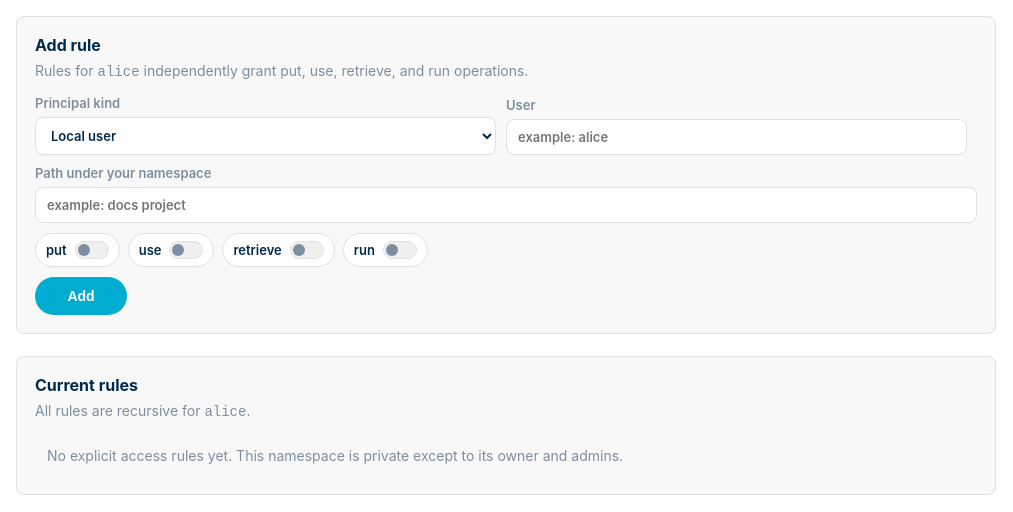
Test: AccessPanel › shows exactly conditional principal fields and preserves exact durable shapes
This screenshot has width=1013, height=512.
expect the text "No explicit access rules yet. This namespace is private except to its owner and admins." is shown: met, box [47,447,623,464]
expect the field labelled "Journal location" is not shown: met
Select "Remote user" in the dropdown labelled "Principal kind" at (266, 136), box [35,117,496,155]
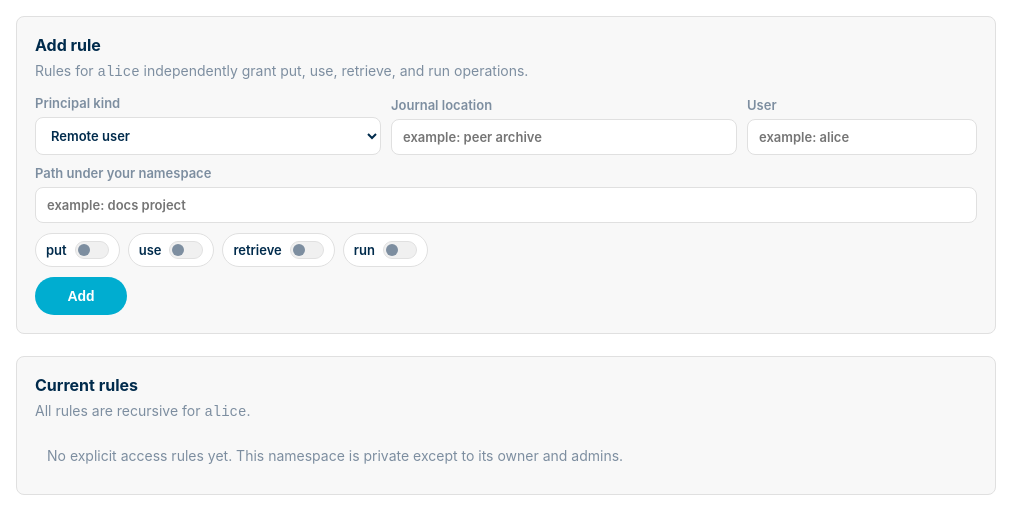
expect the field labelled "User" is shown: met, box [747,119,977,155]
expect the field labelled "Journal location" is shown: met, box [391,119,737,155]
Select "Public" in the dropdown labelled "Principal kind" at (208, 136), box [35,117,381,155]
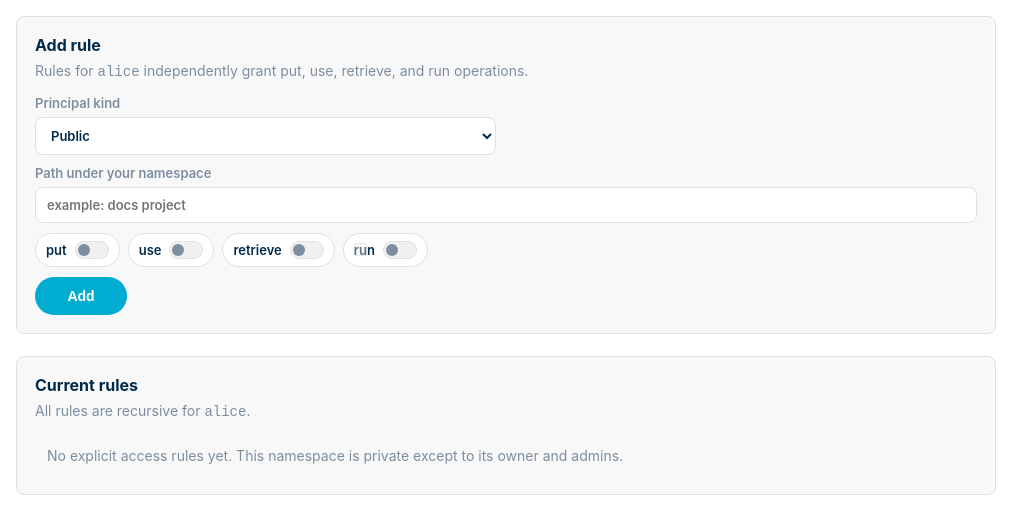
expect the label labelled "Journal location" is gone: met
expect the label labelled "User" is gone: met
